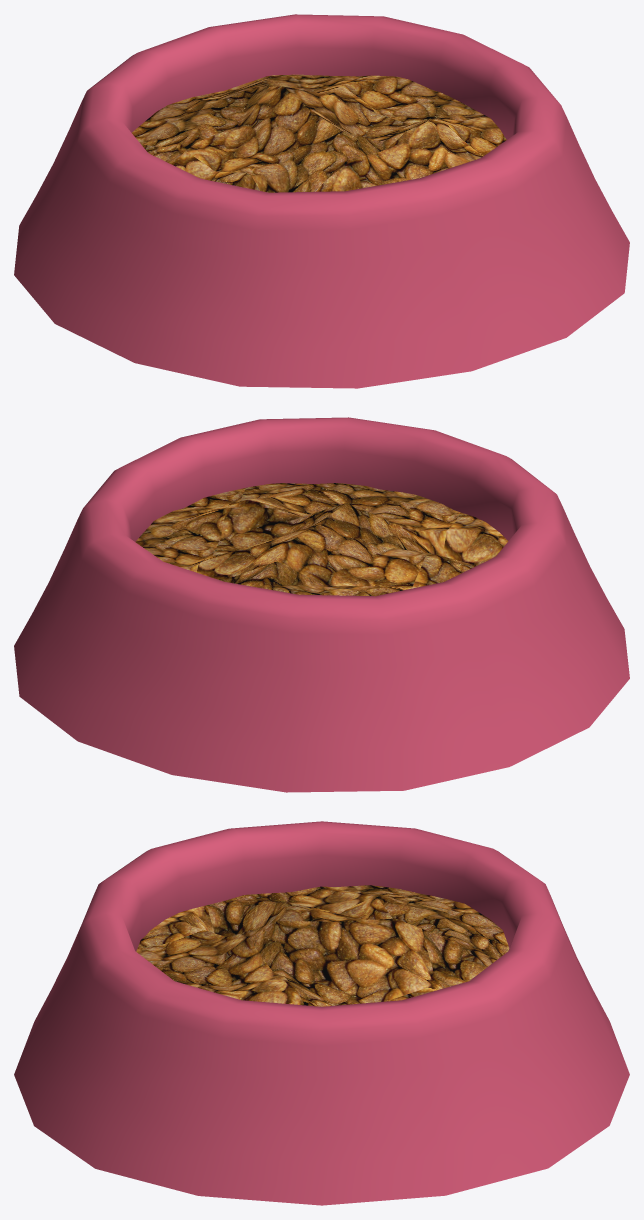
File: food.fbx
3 views of the same model, one above another, from view 1: azimuth 30°, elevation 25°; view 2: azimuth 150°, elevation 25°; view 3: azimuth 270°, elevation 25° (orthographic). The views are drawn at different scales.
Parts seen in each view (by area): view 1: Cube, Plane_001; view 2: Cube, Plane_001; view 3: Cube, Plane_001.
Part boxes in pixels (<box>): Cube: <box>14,14,629,388</box>; Plane_001: <box>132,74,506,192</box>; Cube: <box>14,417,629,792</box>; Plane_001: <box>135,483,508,596</box>; Cube: <box>14,821,629,1205</box>; Plane_001: <box>136,885,509,1006</box>.
Bounding box in the file's own units: 0.367 × 0.1461 × 0.3566.
